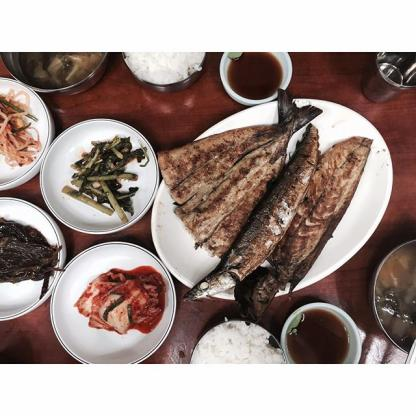Peixe: (128, 94, 390, 286)
